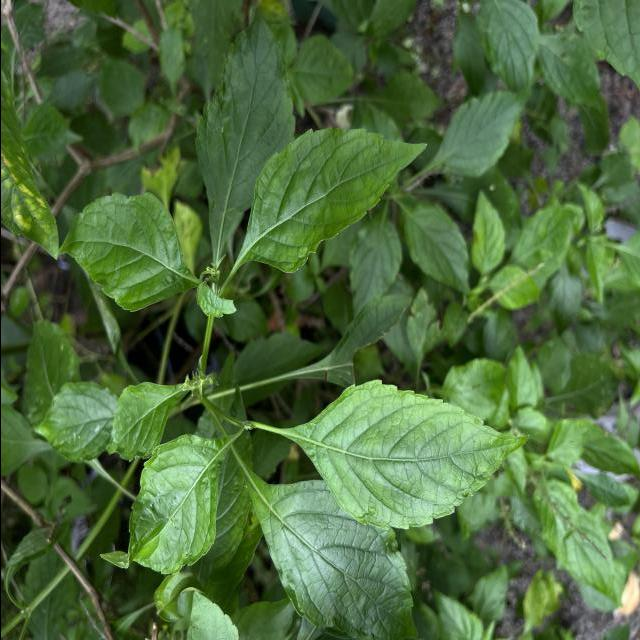Ocimum gratissimum: (252, 378, 532, 532), (234, 456, 419, 640), (230, 124, 430, 276), (190, 7, 296, 258), (97, 432, 239, 578), (49, 190, 198, 314), (103, 378, 201, 466)
